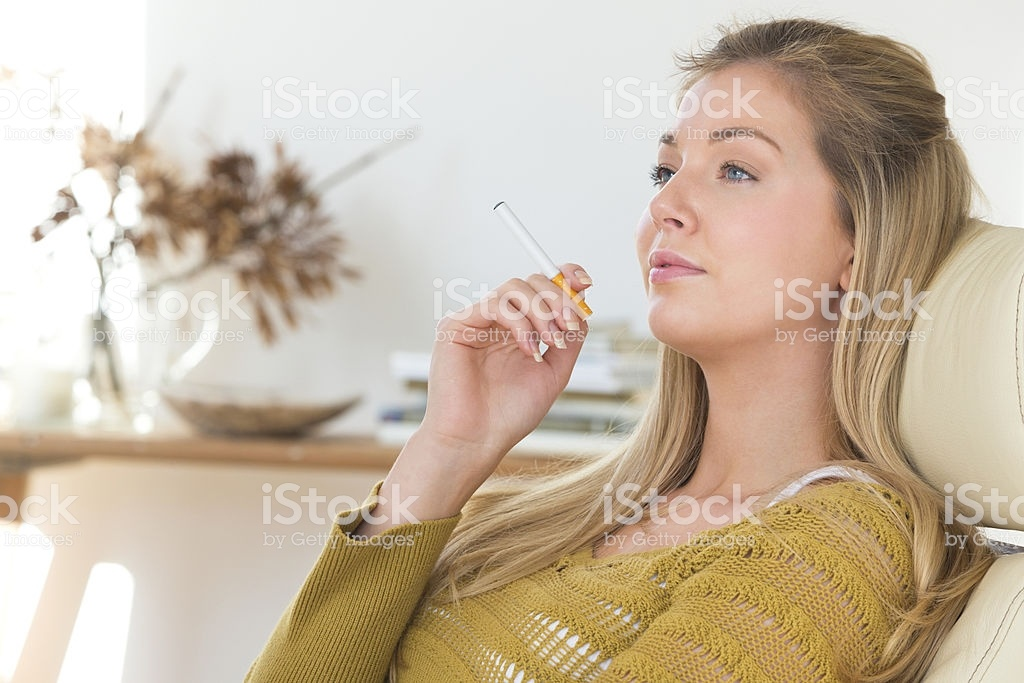sigaretta: (493, 201, 595, 323)
